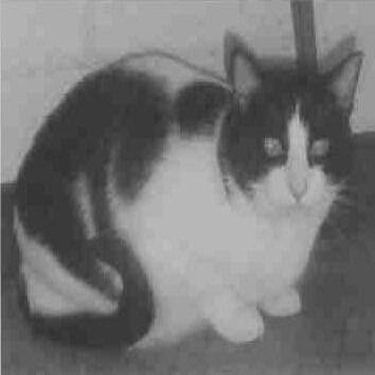cat: (8, 29, 364, 348)
